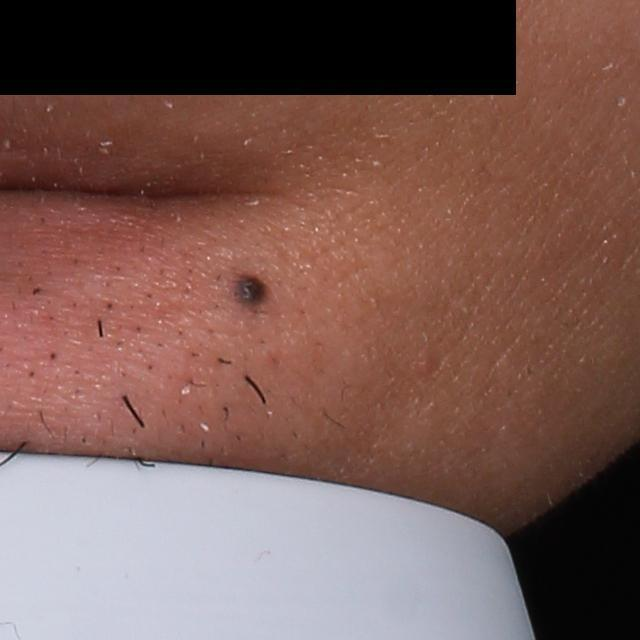nevus: (231, 269, 276, 309)
